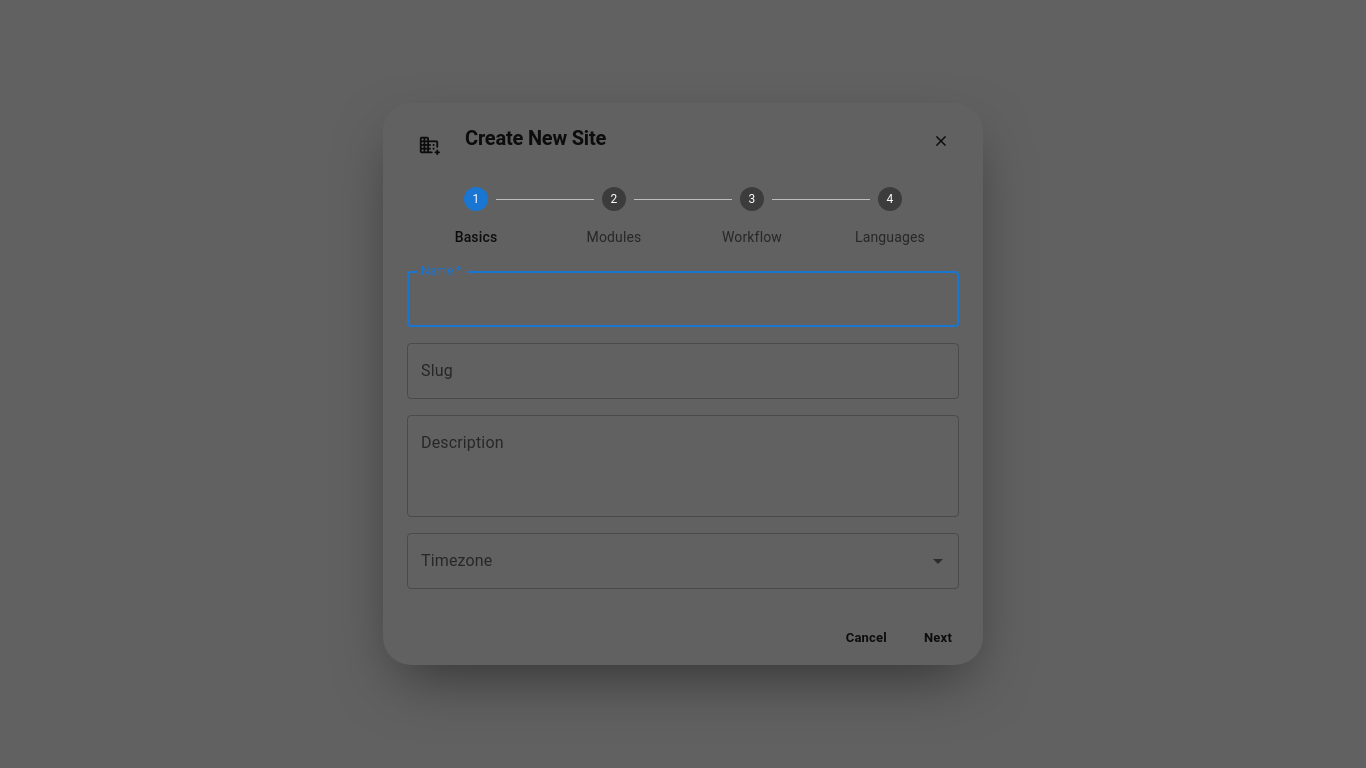
it: SiteCreationWizard › navigates back from modules to basics
Type "My Site" into the field labelled "Name *" at {"x": 683, "y": 299}, box [407,271,959,327]
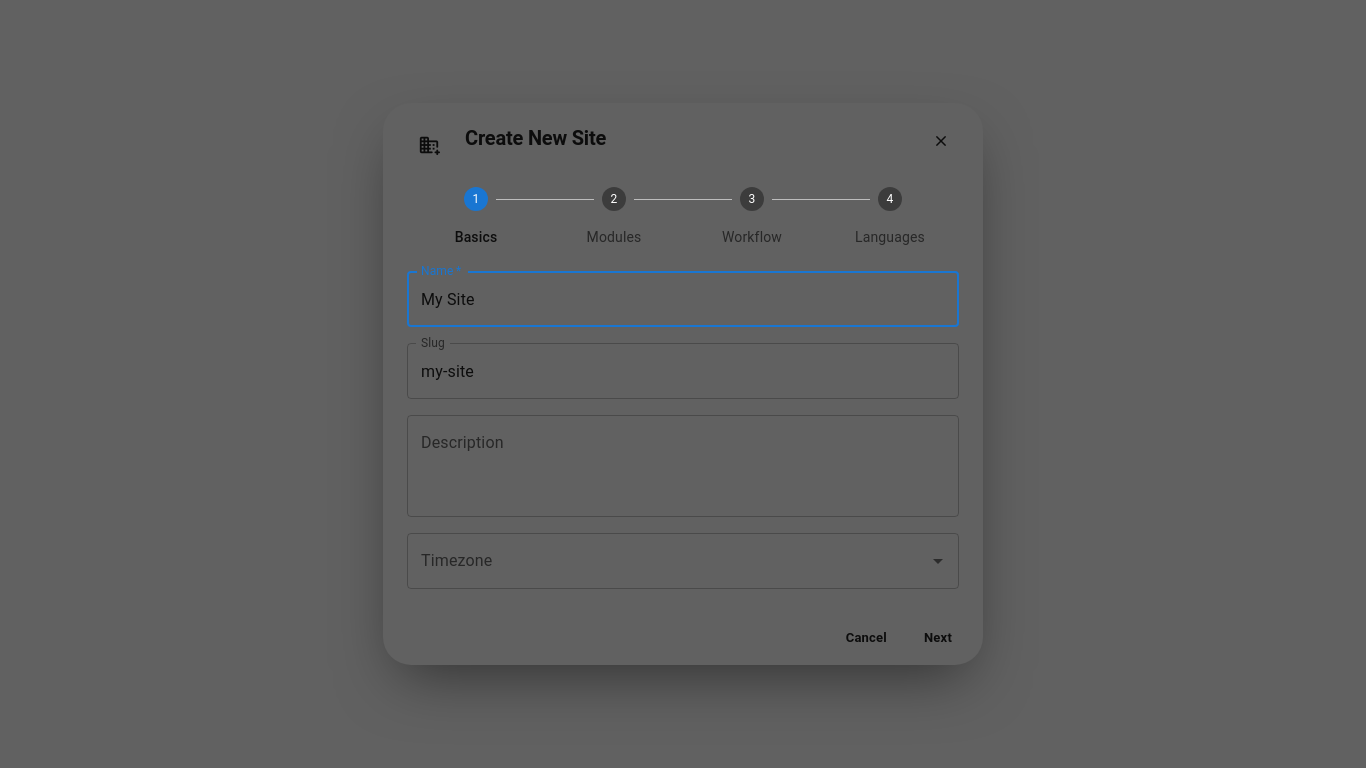
Click the button with test id "site-wizard.btn.next" at {"x": 938, "y": 637}, box [909,621,967,653]
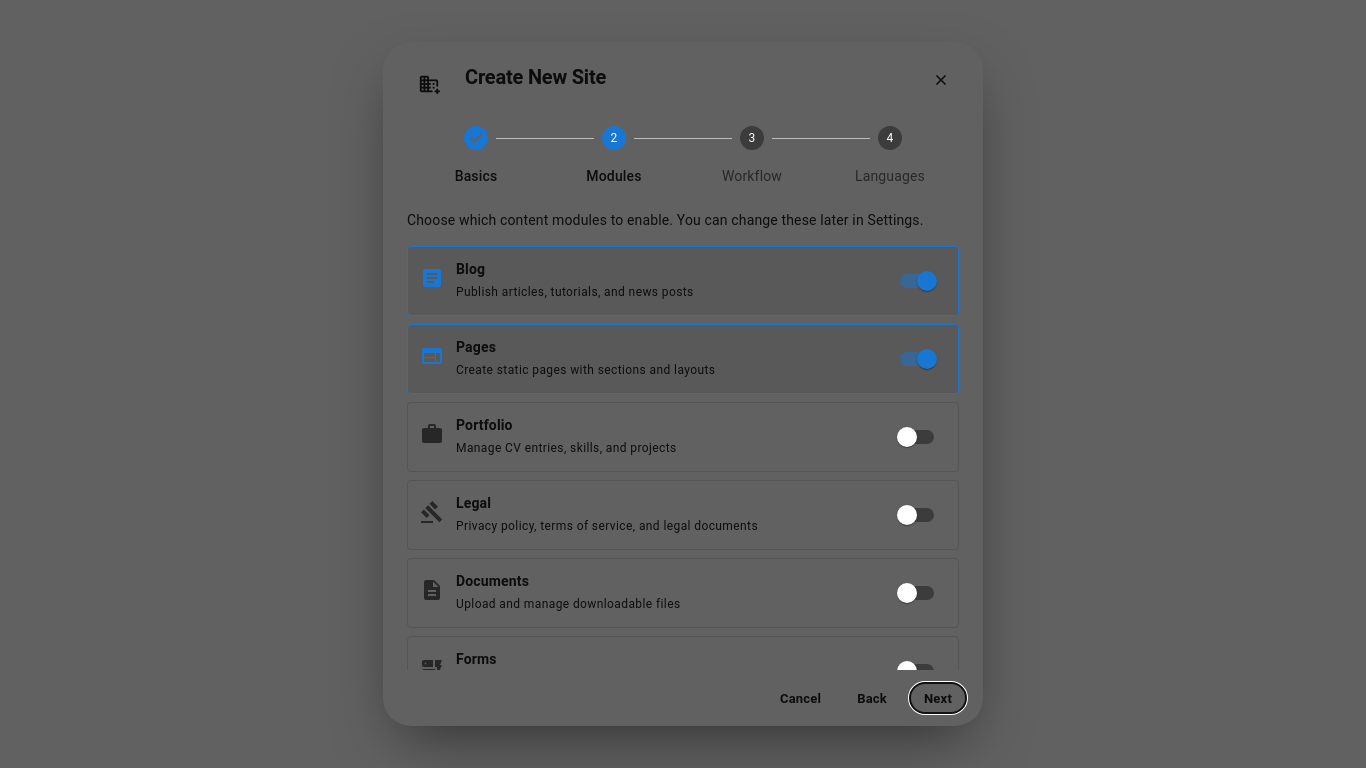
Now the element with test id "site-wizard.module.blog" is shown, box [917,271,937,291]
//  Go back
Click the button with test id "site-wizard.btn.back" at {"x": 872, "y": 698}, box [843,682,901,714]
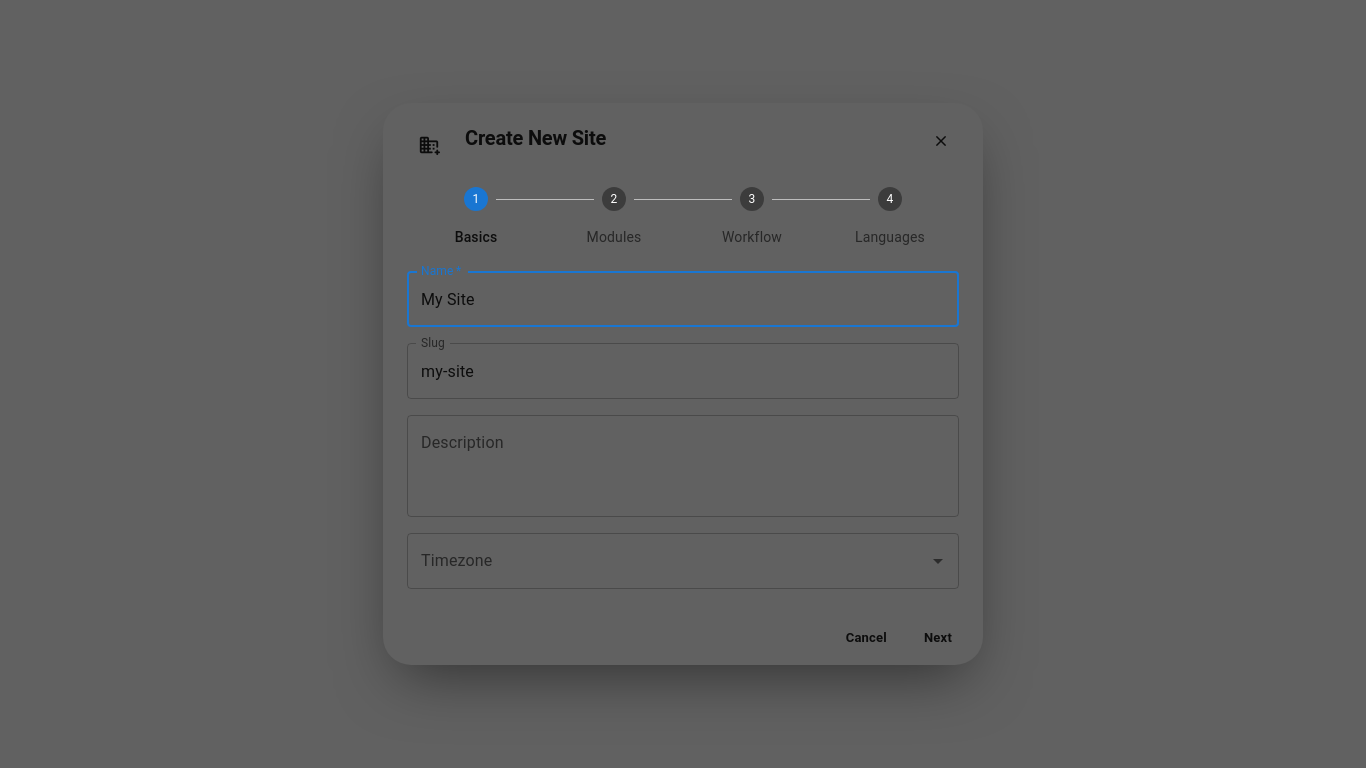
Now the element with test id "site-wizard.input.name" is shown, box [407,271,959,327]
